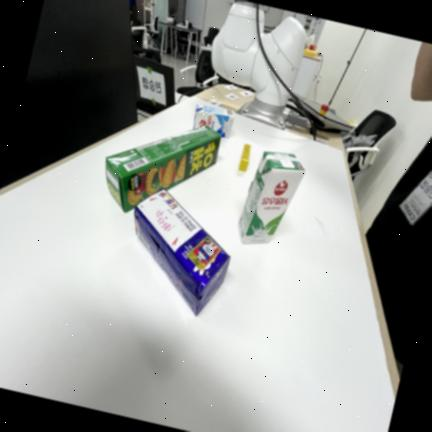cracker_ace: (134, 190, 230, 315)
cracker_vege: (105, 127, 221, 213)
gum_yellow: (239, 144, 251, 171)
milk_blue: (194, 105, 234, 138)
milk_green: (239, 152, 305, 244)
